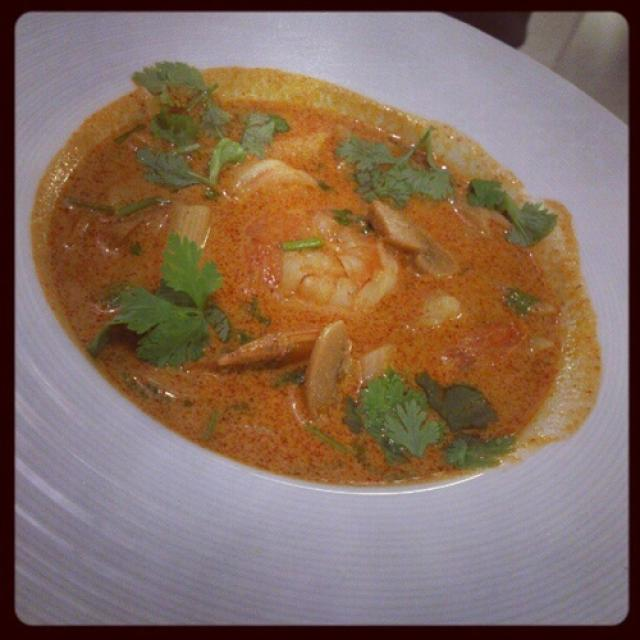汤锅炖物: (54, 45, 585, 503)
